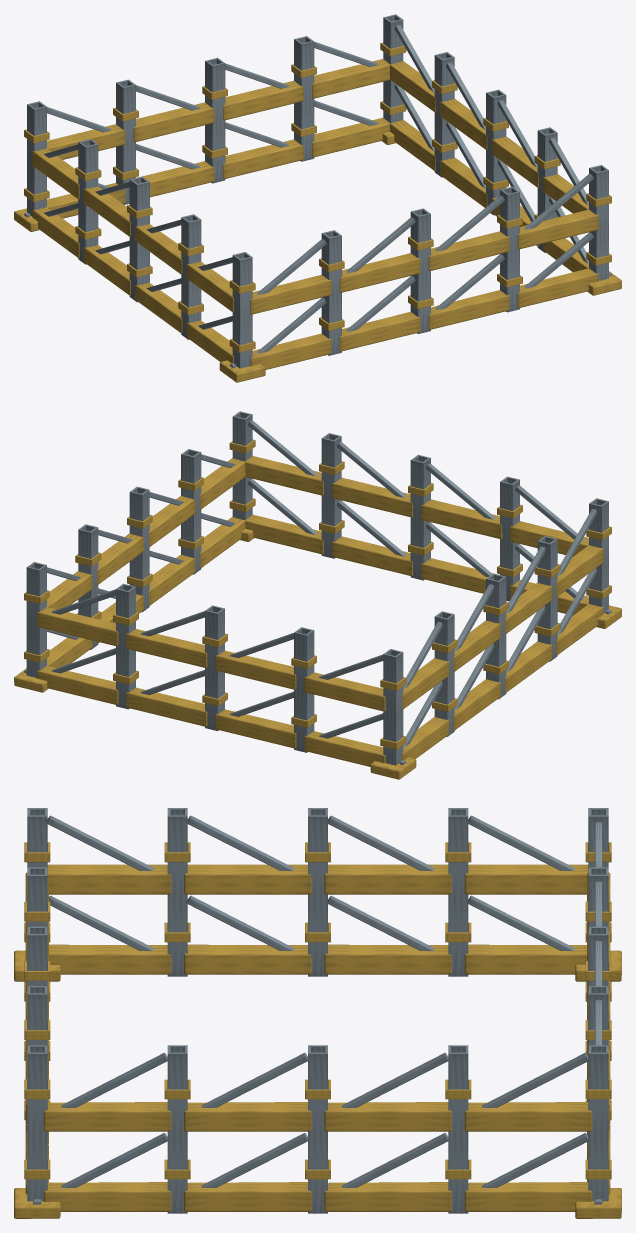
The picture shows the model from 3 angles, top to bottom: view 1: azimuth 30°, elevation 25°; view 2: azimuth 150°, elevation 25°; view 3: azimuth 270°, elevation 25°; orthographic projection. The views are drawn at different scales.
Visible parts, largest first — view 1: Tier 0 side 0 post 0, Tier 0 side 2 post 2, Tier 0 side 2 post 1, Tier 0 side 0 post 1, Tier 0 bay 2-1-2 service deck, Tier 0 side 0 post 2, Tier 0 bay 2-1-1 service deck, Tier 0 bay 2-0-1 service deck, Tier 0 bay 0-1-0 service deck, Tier 0 bay 0-1-2 service deck, Tier 0 bay 0-1-3 service deck, Tier 0 bay 0-0-2 service deck (+49 smaller); view 2: Tier 0 side 3 post 0, Tier 0 side 2 post 3, Tier 0 side 2 post 0, Tier 0 side 2 post 2, Tier 0 side 0 post 2, Tier 0 side 0 post 3, Tier 0 bay 2-1-3 service deck, Tier 0 bay 2-0-1 service deck, Tier 0 bay 2-1-1 service deck, Tier 0 bay 2-1-2 service deck, Tier 0 bay 2-0-2 service deck, Tier 0 bay 2-1-0 service deck (+51 smaller); view 3: Tier 0 bay 3-1-1 service deck, Tier 0 bay 3-1-2 service deck, Tier 0 bay 3-0-2 service deck, Tier 0 bay 3-0-1 service deck, Tier 0 bay 1-1-0 service deck, Tier 0 bay 1-1-3 service deck, Tier 0 bay 3-1-3 service deck, Tier 0 bay 1-1-1 service deck, Tier 0 bay 1-1-2 service deck, Tier 0 bay 1-0-1 service deck, Tier 0 bay 3-1-0 service deck, Tier 0 bay 1-0-2 service deck (+39 smaller).
Boxes of the visible parts, bbox=[...] form: Tier 0 side 0 post 0: bbox=[232, 252, 252, 368]; Tier 0 side 2 post 2: bbox=[205, 57, 225, 183]; Tier 0 side 2 post 1: bbox=[294, 36, 314, 161]; Tier 0 side 0 post 1: bbox=[321, 230, 341, 355]; Tier 0 bay 2-1-2 service deck: bbox=[133, 102, 214, 142]; Tier 0 side 0 post 2: bbox=[410, 208, 430, 333]; Tier 0 bay 2-1-1 service deck: bbox=[223, 80, 303, 120]; Tier 0 bay 2-0-1 service deck: bbox=[223, 139, 303, 179]; Tier 0 bay 0-1-0 service deck: bbox=[250, 275, 331, 314]; Tier 0 bay 0-1-2 service deck: bbox=[428, 231, 509, 271]; Tier 0 bay 0-1-3 service deck: bbox=[517, 209, 598, 249]; Tier 0 bay 0-0-2 service deck: bbox=[428, 290, 509, 329]; Tier 0 side 3 post 0: bbox=[383, 649, 403, 765]; Tier 0 side 2 post 3: bbox=[294, 627, 314, 752]; Tier 0 side 2 post 0: bbox=[26, 562, 46, 677]; Tier 0 side 2 post 2: bbox=[205, 605, 224, 731]; Tier 0 side 0 post 2: bbox=[410, 454, 430, 580]; Tier 0 side 0 post 3: bbox=[321, 433, 341, 558]; Tier 0 bay 2-1-3 service deck: bbox=[304, 672, 385, 711]; Tier 0 bay 2-0-1 service deck: bbox=[126, 687, 207, 726]; Tier 0 bay 2-1-1 service deck: bbox=[126, 629, 207, 668]; Tier 0 bay 2-1-2 service deck: bbox=[215, 650, 296, 689]; Tier 0 bay 2-0-2 service deck: bbox=[215, 709, 296, 748]; Tier 0 bay 2-1-0 service deck: bbox=[37, 607, 118, 646]; Tier 0 bay 3-1-1 service deck: bbox=[324, 864, 451, 894]; Tier 0 bay 3-1-2 service deck: bbox=[184, 864, 311, 894]; Tier 0 bay 3-0-2 service deck: bbox=[184, 944, 311, 974]; Tier 0 bay 3-0-1 service deck: bbox=[324, 944, 451, 974]; Tier 0 bay 1-1-0 service deck: bbox=[43, 1102, 171, 1131]; Tier 0 bay 1-1-3 service deck: bbox=[464, 1102, 592, 1131]; Tier 0 bay 3-1-3 service deck: bbox=[47, 864, 171, 894]; Tier 0 bay 1-1-1 service deck: bbox=[184, 1102, 311, 1131]; Tier 0 bay 1-1-2 service deck: bbox=[324, 1102, 451, 1131]; Tier 0 bay 1-0-1 service deck: bbox=[184, 1182, 311, 1211]; Tier 0 bay 3-1-0 service deck: bbox=[464, 864, 588, 894]; Tier 0 bay 1-0-2 service deck: bbox=[324, 1182, 451, 1211].
Size of the model in its own units: 1.95 by 0.5669 by 1.95.
2 materials, 2 textured.
